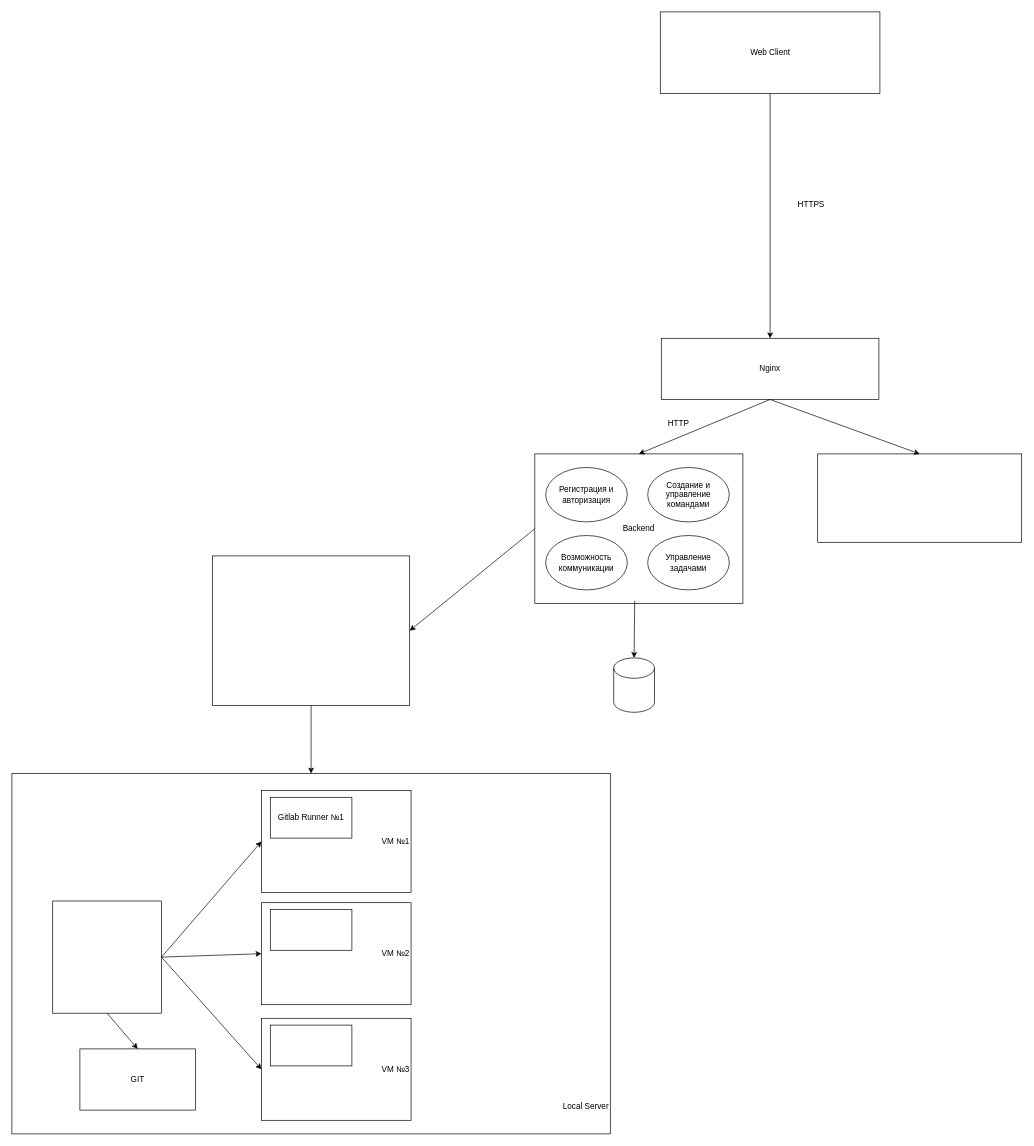
This 1034x1146 diagram has some shape labels left out. Each missing label, with the centre of its shape:
BD: (633,684)
Frontend: (919,497)
GItlab CE: (107,956)
Gitlab Integration: (311,630)
Gitlab Runner №2: (311,929)
Gitlab Runner №3: (311,1045)
